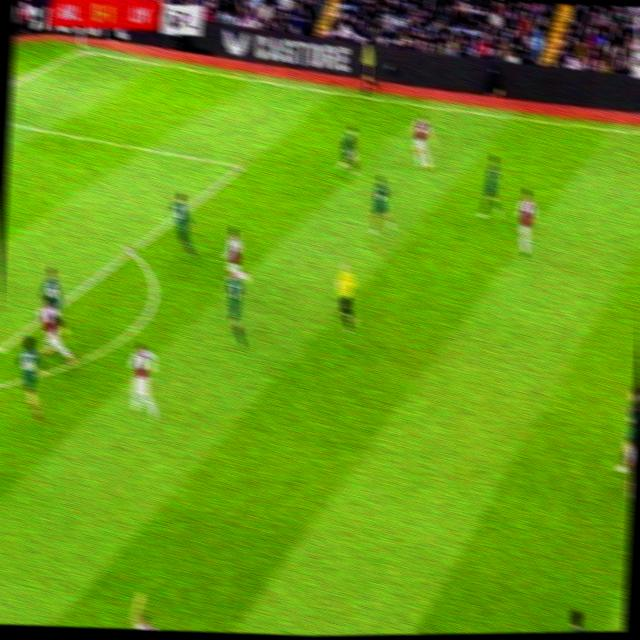bigarea_top_inner: (232, 155, 249, 174)
corner: (73, 43, 93, 56)
top_arc_area_intersection: (122, 240, 140, 261)
